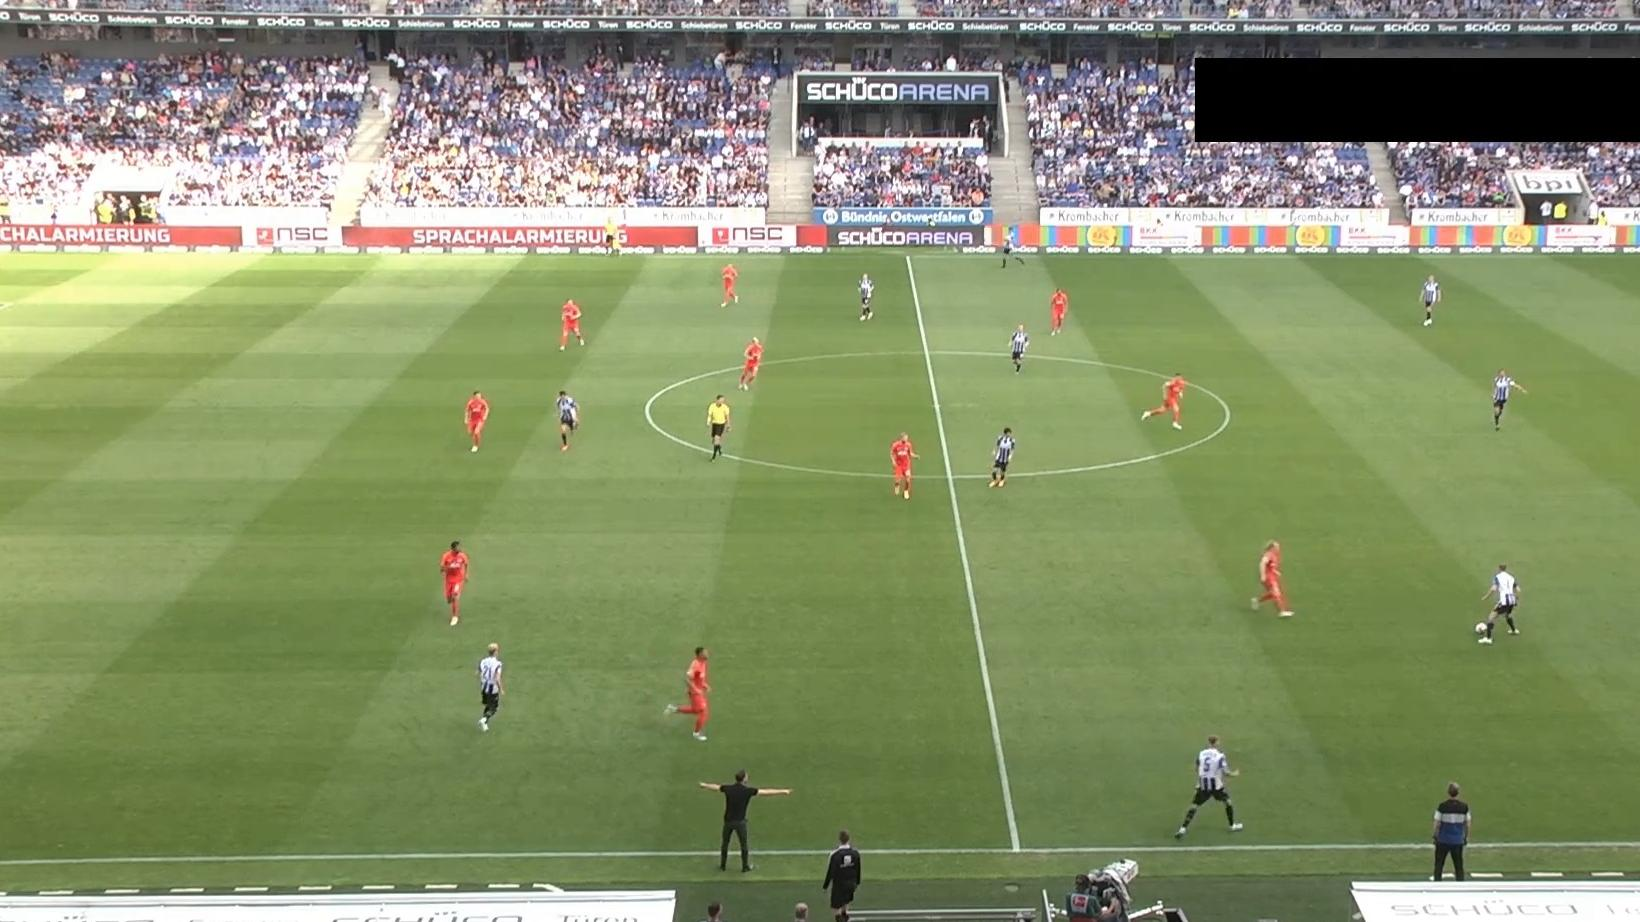ball: (1473, 620, 1488, 636)
